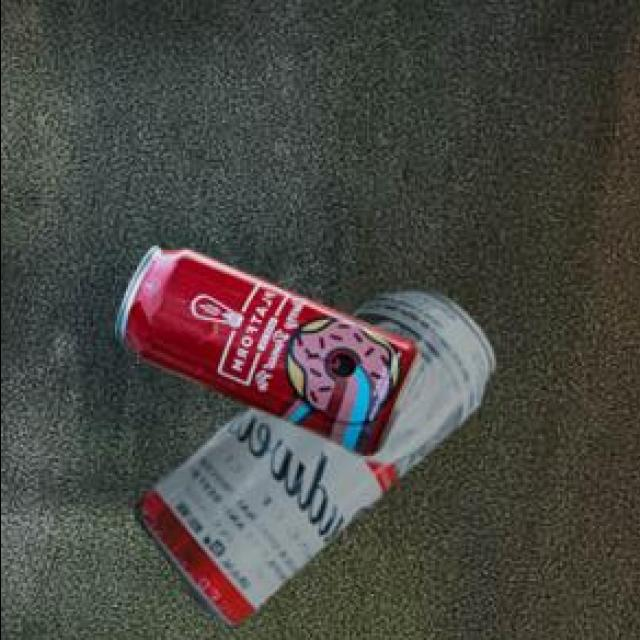logam: (130, 286, 490, 621), (111, 242, 418, 453)
